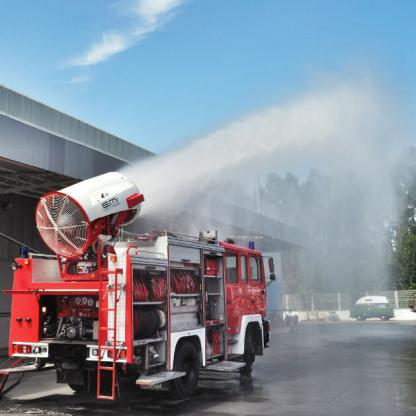fire-truck: (3, 167, 319, 415)
